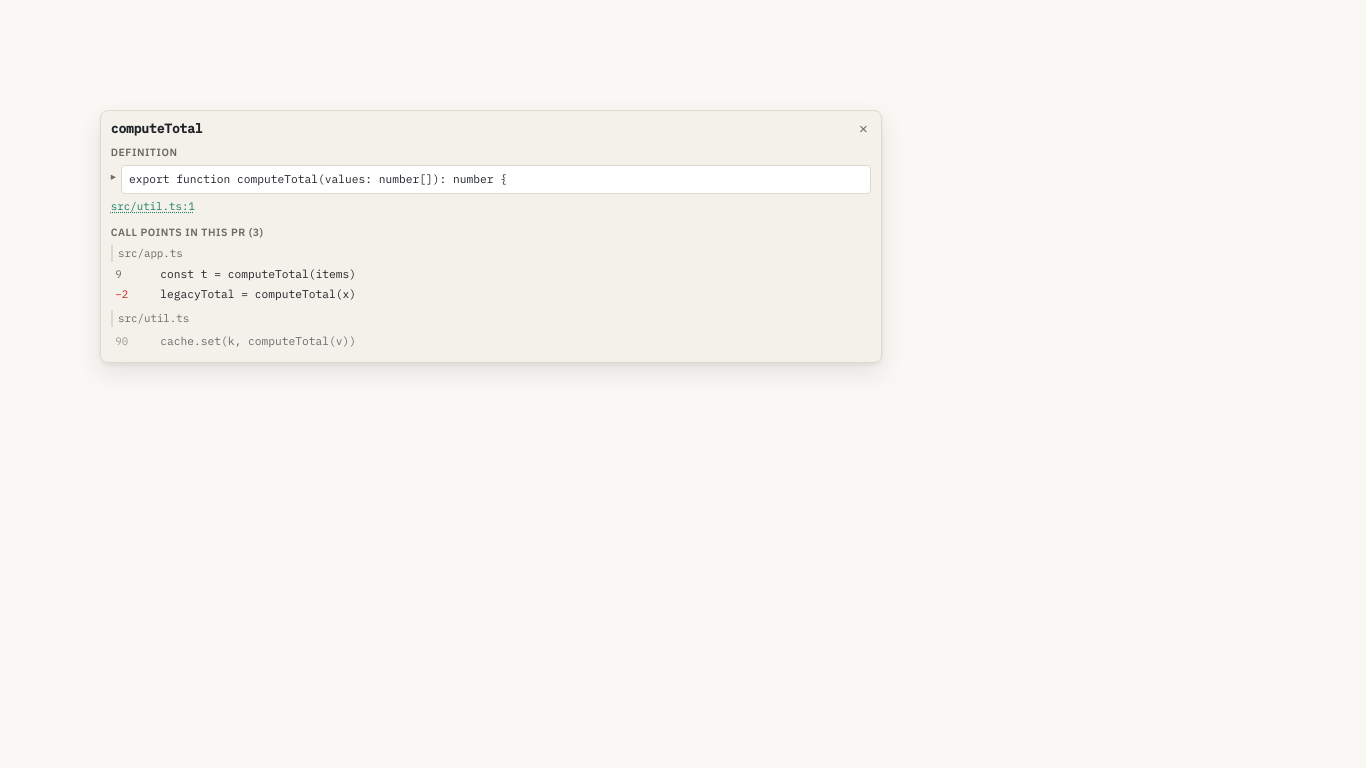
Test: SymbolPopover — definition peek › opens long bodies at 40 lines and offers the rest as a control, not a label
Click the button named "Definition body at src/util.ts:1".
click(114, 174)  # box [111,165,118,182]
(page scrolled)
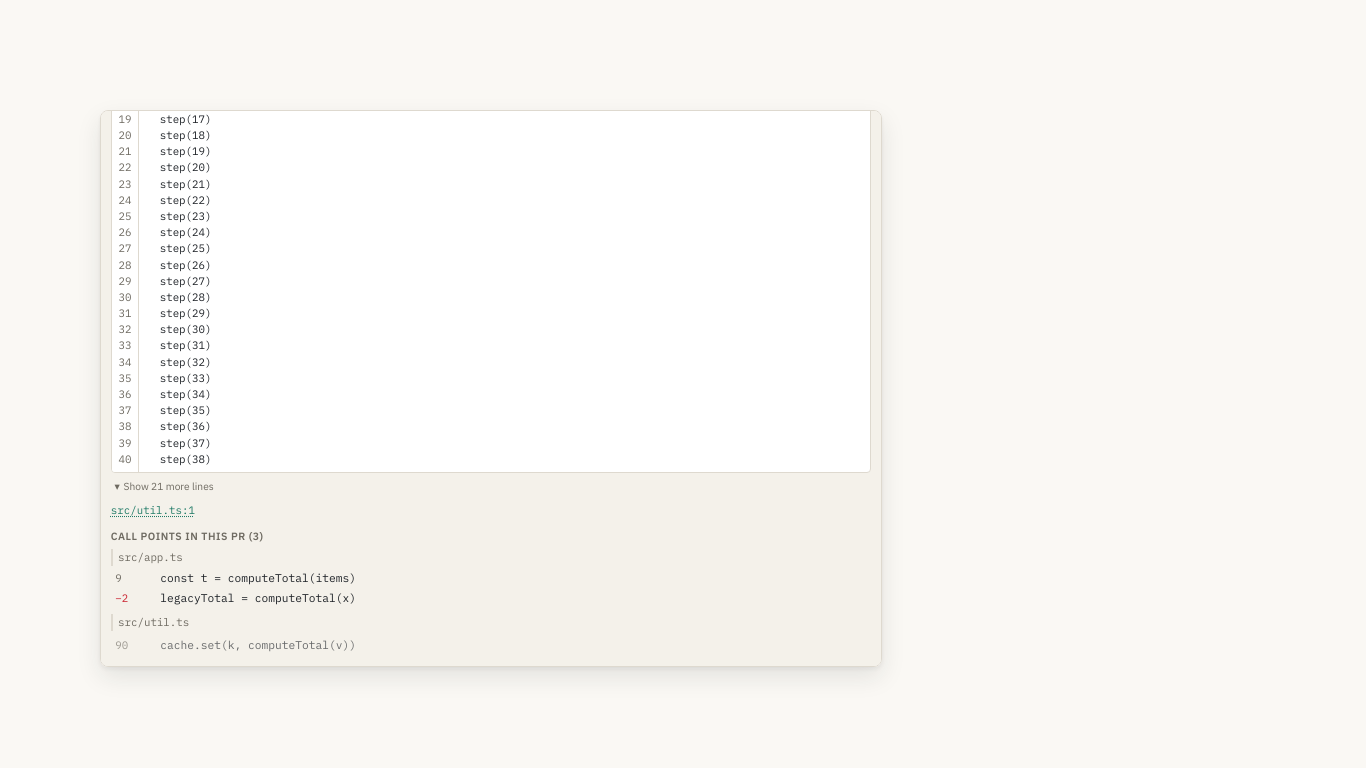
The remainder is a door: it promises exactly what one click will add.
Click the button "▾ Show 21 more lines".
click(166, 486)  # box [111,475,221,497]
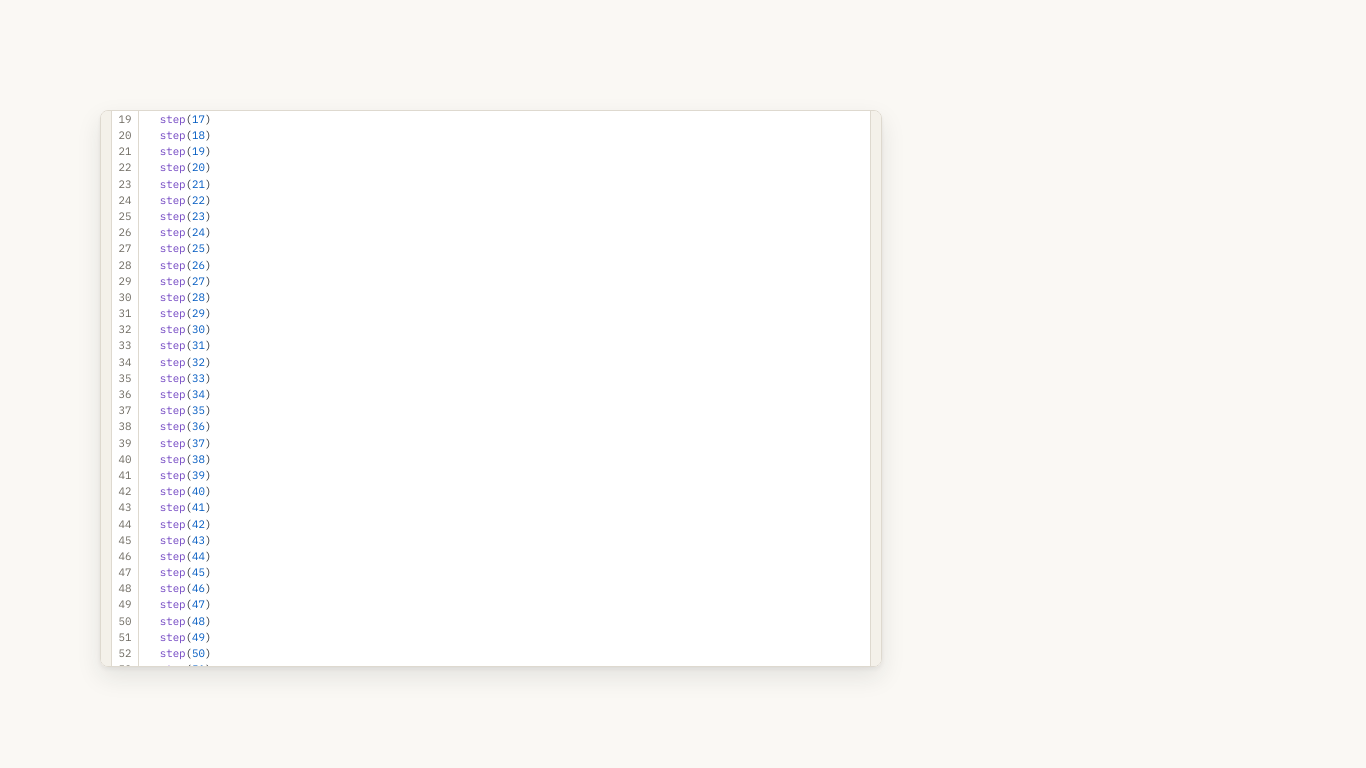
Now the button "▾ Show 21 more lines" is gone
Now the button with test id "definition-peek" no longer shows "more line"
